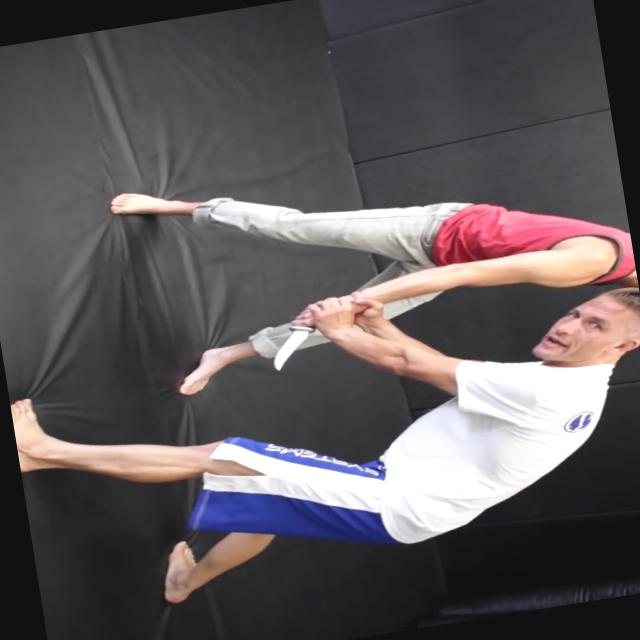knife: (254, 299, 332, 376)
